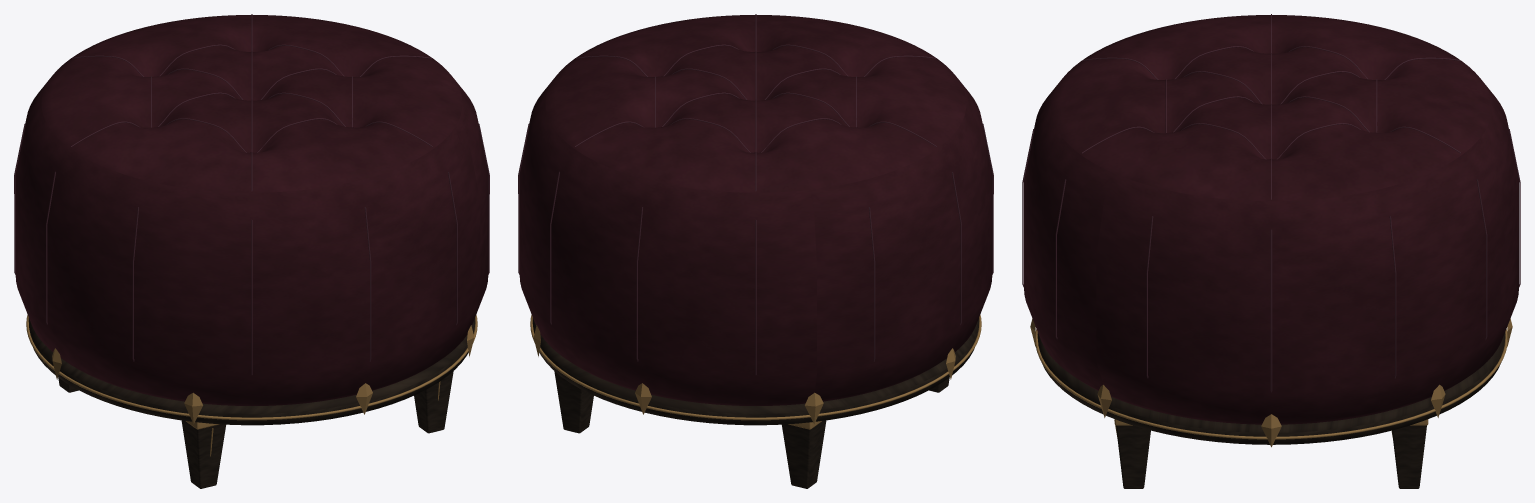
The model's file is gotico_pufe.glb.
3 renders of one model, left to right at view 1: azimuth 30°, elevation 25°; view 2: azimuth 150°, elevation 25°; view 3: azimuth 270°, elevation 25°, orthographic. The views are drawn at different scales.
Visible parts, largest first — view 1: pufe; view 2: pufe; view 3: pufe.
Part boxes in pixels (<box>): pufe: <box>14,14,489,488</box>; pufe: <box>518,14,993,488</box>; pufe: <box>1022,14,1520,488</box>.
Bounding box in the file's own units: 0.5536 × 0.417 × 0.5536.
4 materials, 2 textured.
